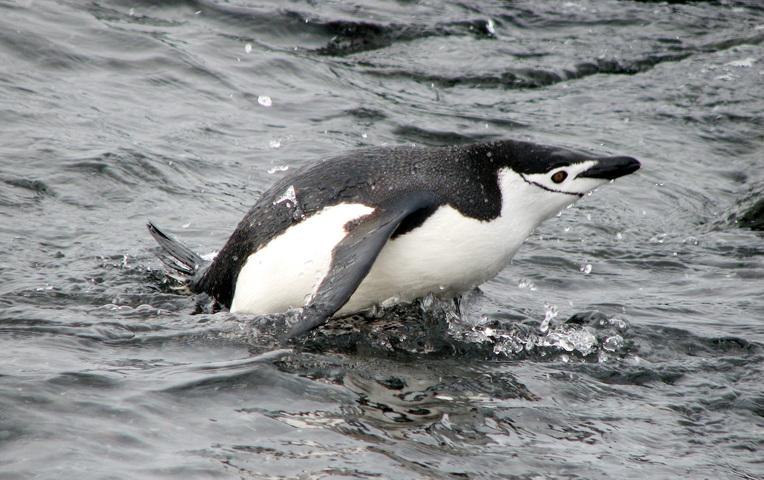chinstrap: (135, 102, 659, 376)
